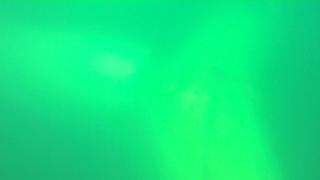pipe: (145, 64, 283, 180), (1, 27, 151, 114), (166, 1, 284, 76)
